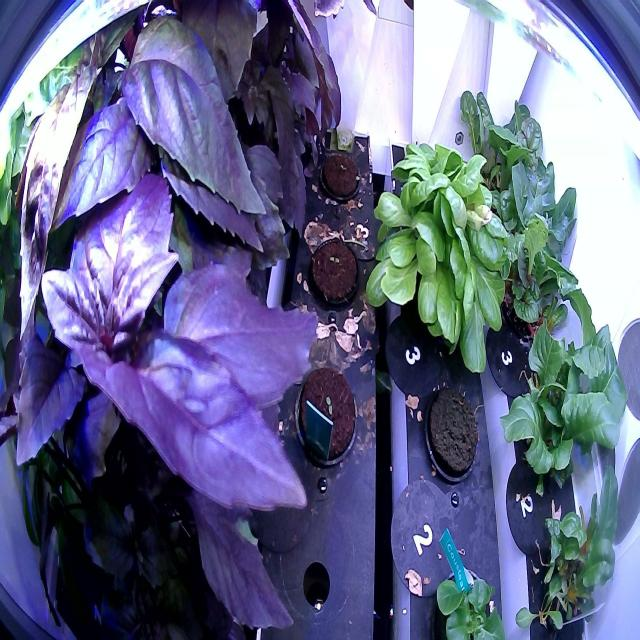germination: (290, 356, 362, 473), (304, 229, 362, 318)
pod: (423, 378, 482, 491), (316, 144, 366, 211)
